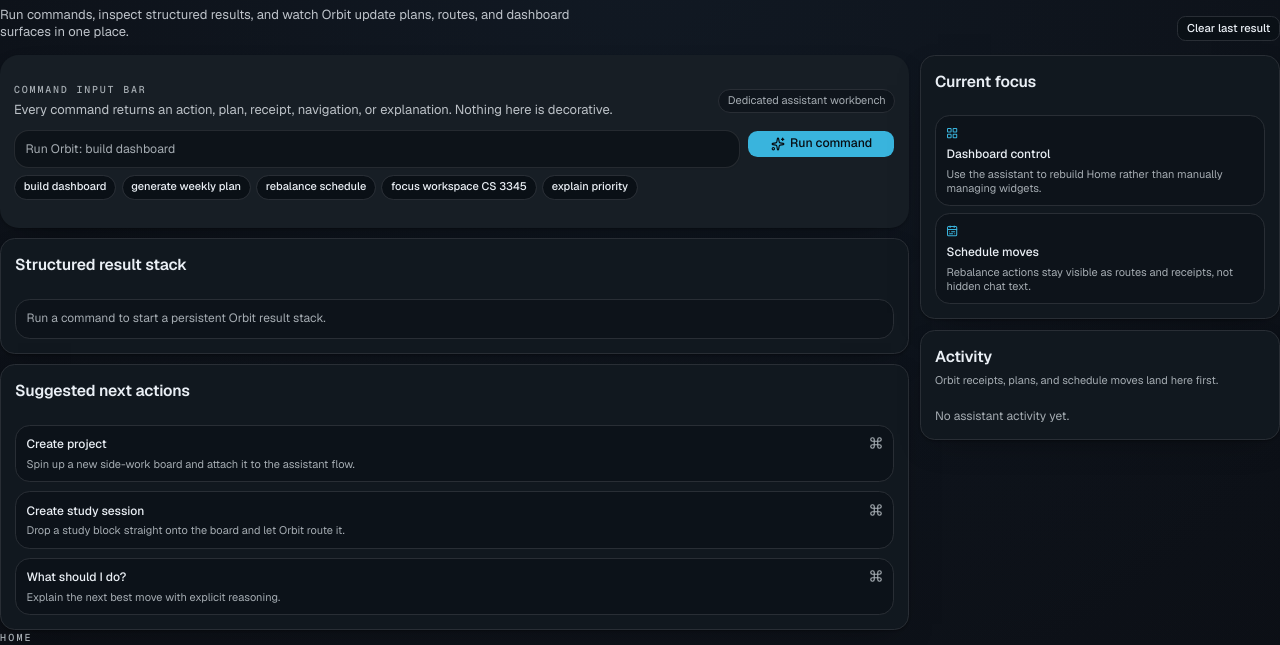
Scenario: DashboardView › shows active plan and focused chips after running assistant commands
// Plan chip appears after generating the weekly plan
Click the button "generate weekly plan" at (186, 187), box [122, 175, 251, 200]
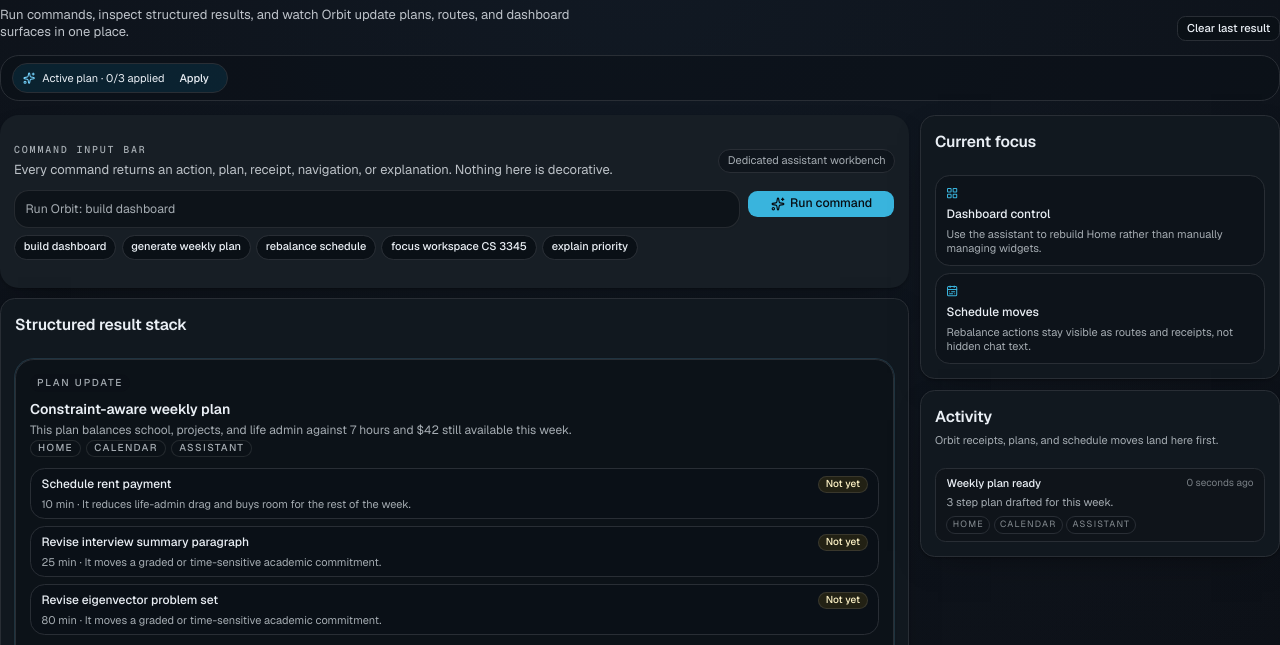
// Focused chip appears after focusing a workspace
Click the button "focus workspace CS 3345" at (459, 247), box [381, 235, 537, 260]
(page scrolled)
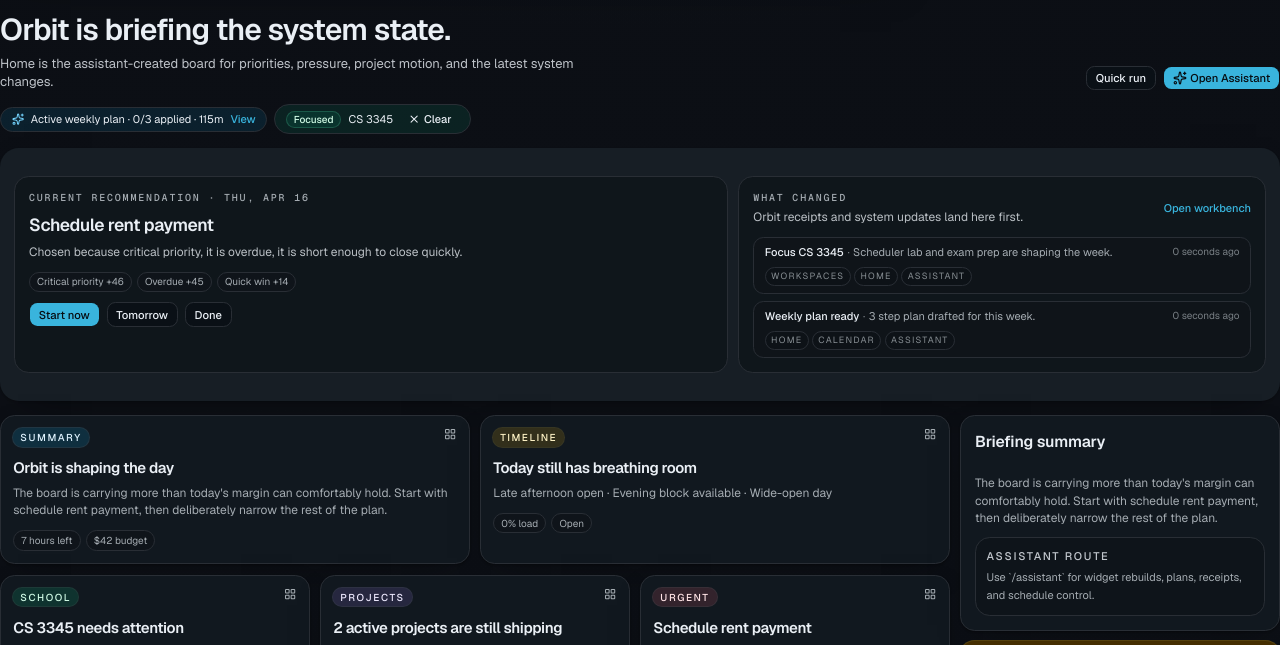
Expected: the element with test id "activity-strip" is shown, [753, 237, 1251, 358]
Expected: the element with test id "focused-workspace-chip" is shown, [274, 104, 471, 134]
